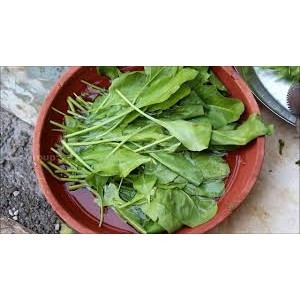spinach_brain food: (54, 95, 234, 225)
